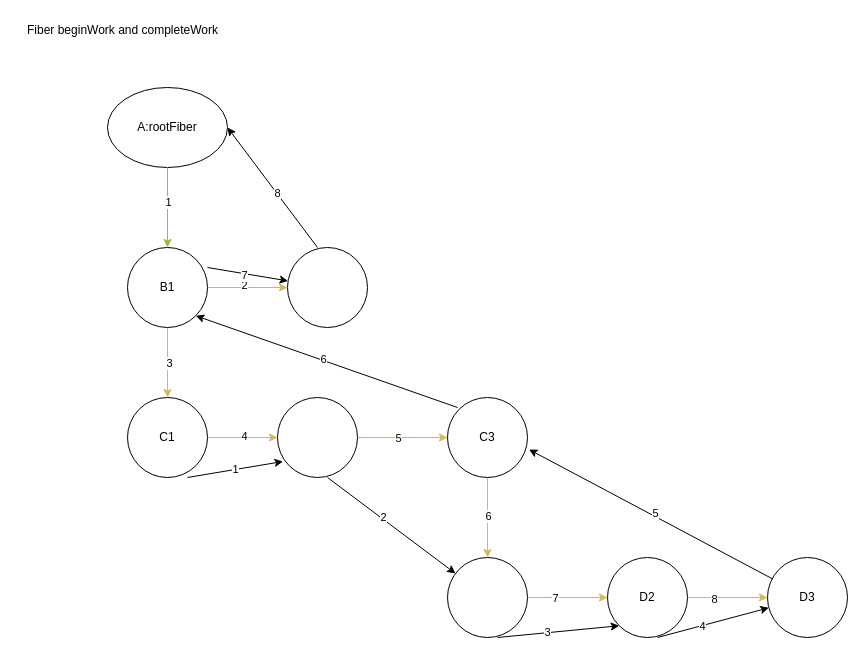
Some shapes in this 865 by 663 pixel diagram are drawn without their labels. The shapes that lost their labels are listed below. From the top down, each one's centre as x and y in pixels, then its label:
the point at 327,287: B2
the point at 317,437: C2
the point at 487,597: D1
